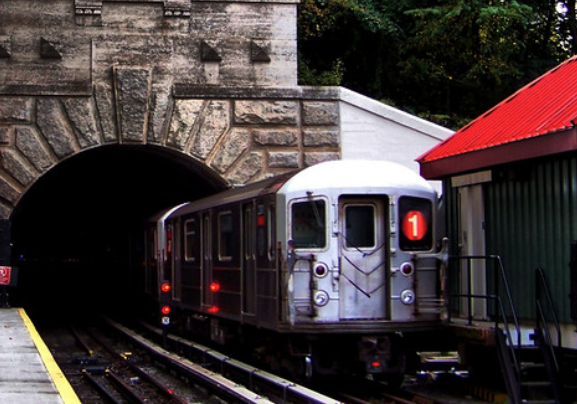train: (238, 158, 446, 330)
